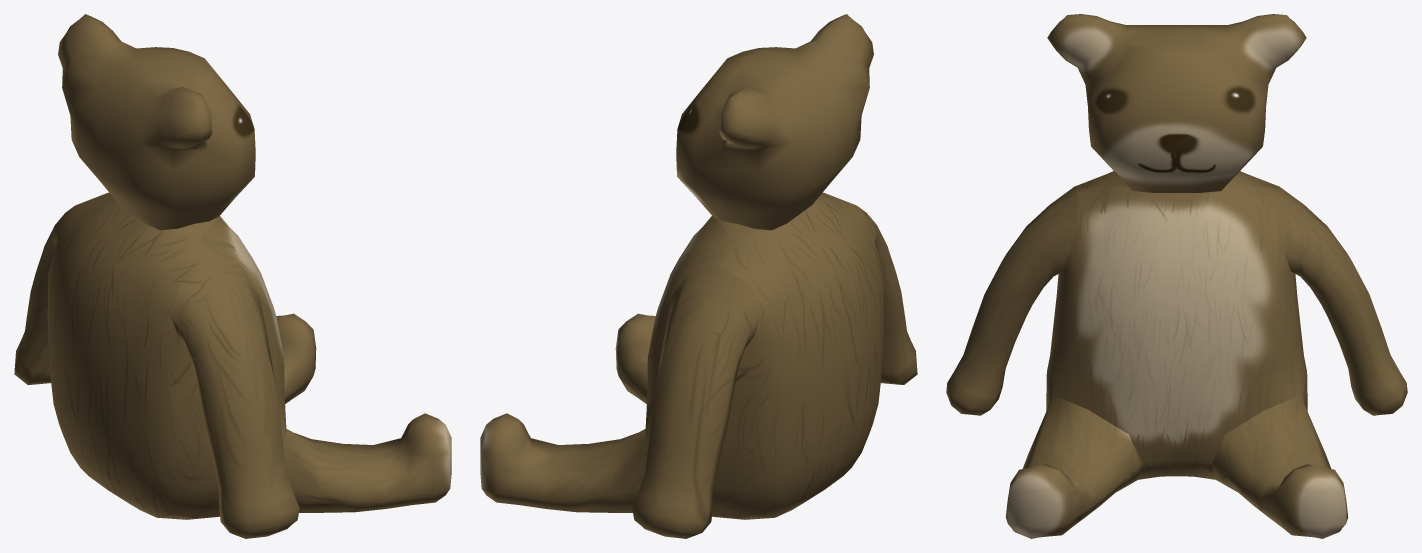
File: nalle.FBX
3 views of the same model, side by side, from view 1: azimuth 30°, elevation 25°; view 2: azimuth 150°, elevation 25°; view 3: azimuth 270°, elevation 25° (orthographic). The views are drawn at different scales.
Parts seen in each view (by area): view 1: nalle; view 2: nalle; view 3: nalle.
Part boxes in pixels (x1,y1,x2,y2): nalle: [14, 14, 451, 538]; nalle: [480, 14, 917, 538]; nalle: [946, 14, 1407, 538].
Size of the model in its own units: 23.16 by 31.89 by 31.6.
1 material, 1 textured.
